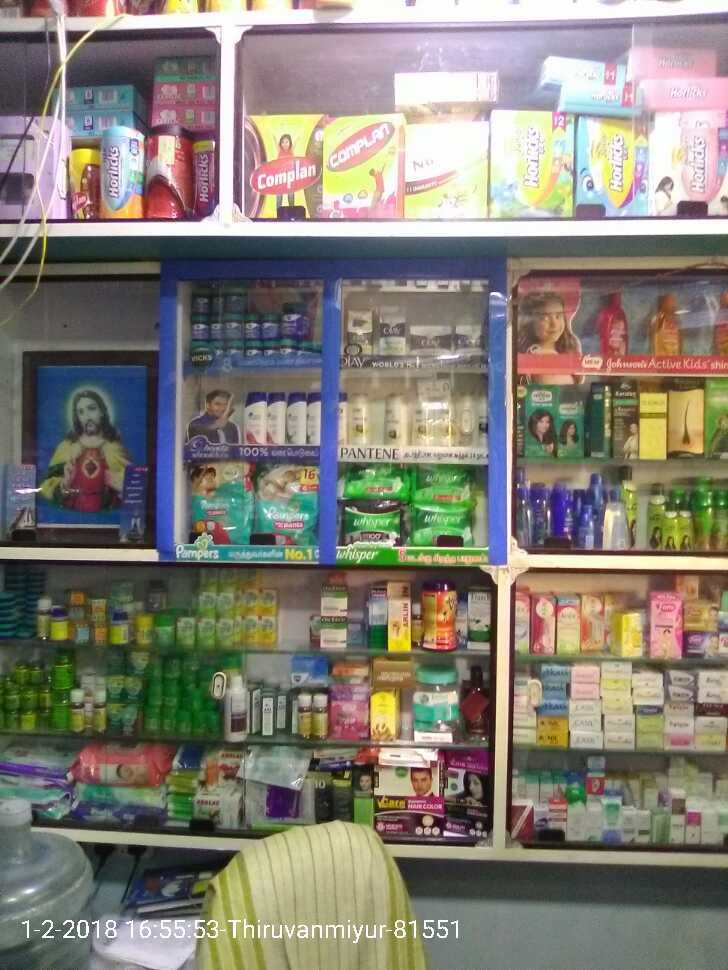vicks: (189, 280, 322, 358)
